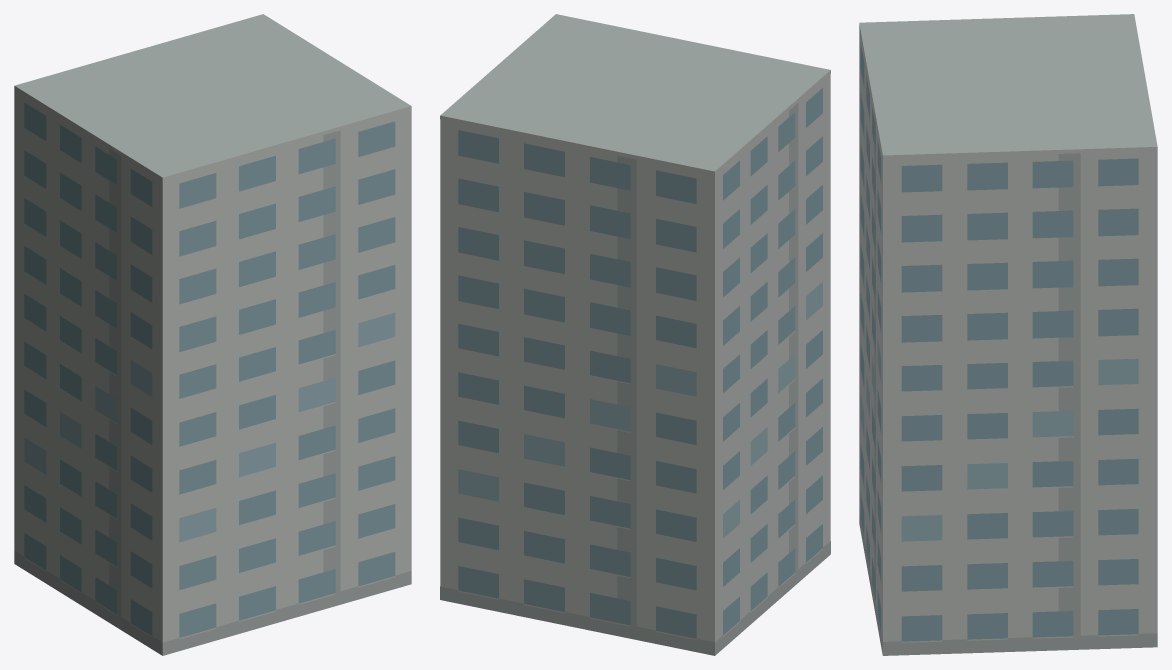
File: residential-59d66dea-d8e0-4d13-9dcc-08742480708a.glb
The picture shows the model from 3 angles, left to right: view 1: azimuth 30°, elevation 25°; view 2: azimuth 150°, elevation 25°; view 3: azimuth 270°, elevation 25°; orthographic projection. The views are drawn at different scales.
Visible parts, largest first — view 1: residential-59d66dea-d8e0-4d13-9dcc-08742480708a.tmp; view 2: residential-59d66dea-d8e0-4d13-9dcc-08742480708a.tmp; view 3: residential-59d66dea-d8e0-4d13-9dcc-08742480708a.tmp.
Boxes of the visible parts, <box> form: residential-59d66dea-d8e0-4d13-9dcc-08742480708a.tmp: <box>14,14,411,655</box>; residential-59d66dea-d8e0-4d13-9dcc-08742480708a.tmp: <box>440,14,830,655</box>; residential-59d66dea-d8e0-4d13-9dcc-08742480708a.tmp: <box>859,14,1157,655</box>.
Size of the model in its own units: 18.2 by 30 by 16.22.
